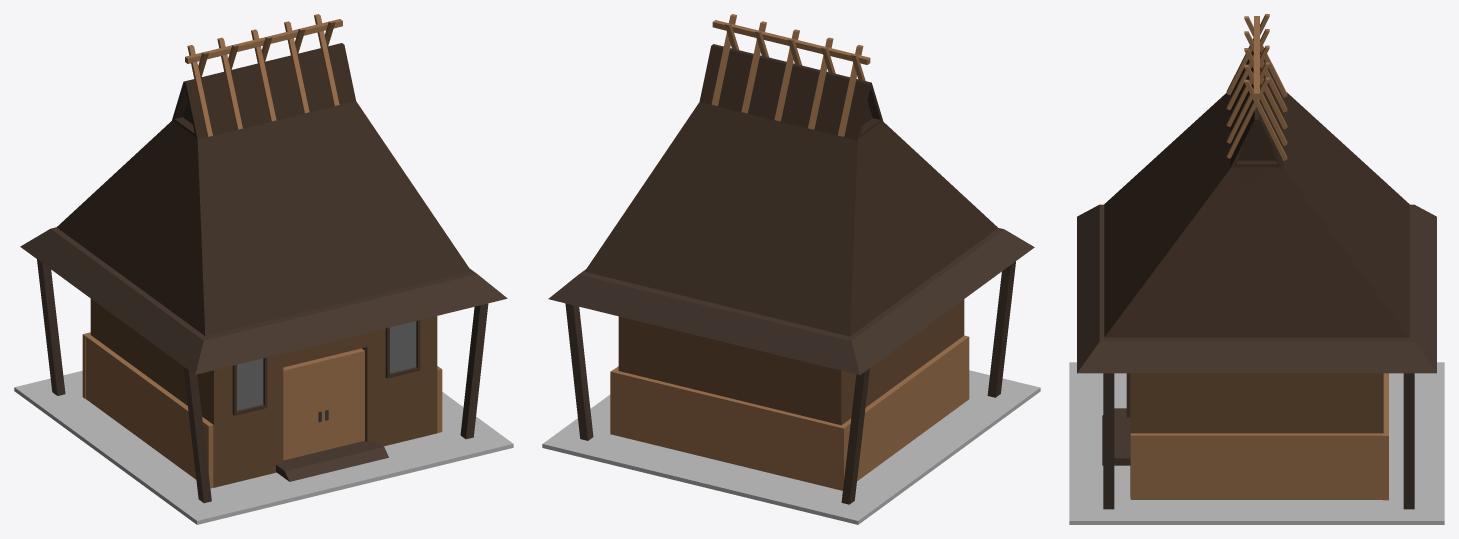
File: house_small.fbx
3 views of the same model, side by side, from view 1: azimuth 30°, elevation 25°; view 2: azimuth 150°, elevation 25°; view 3: azimuth 270°, elevation 25° (orthographic). The views are drawn at different scales.
Parts seen in each view (by area): view 1: house_small; view 2: house_small; view 3: house_small.
Boxes of the visible parts, box(x1,y1,x2,y2) form: house_small: box(14, 14, 513, 524); house_small: box(542, 14, 1040, 524); house_small: box(1069, 14, 1444, 524).
Size of the model in its own units: 9.58 by 11.17 by 9.58.
